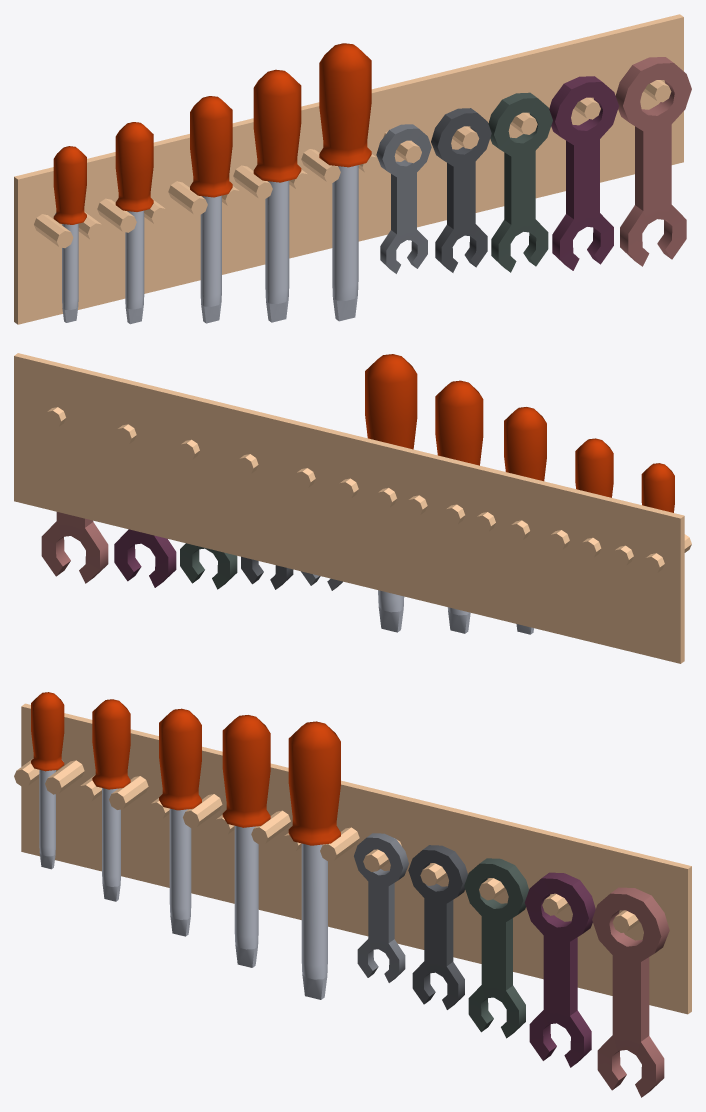
The model's file is Toolrack.fbx.
3 views of the same model, one above another, from view 1: azimuth 30°, elevation 25°; view 2: azimuth 150°, elevation 25°; view 3: azimuth 330°, elevation 25° (orthographic).
Visible parts, largest first — view 1: Toolrack; view 2: Toolrack; view 3: Toolrack.
Part boxes in pixels (<box>): Toolrack: <box>14,14,691,324</box>; Toolrack: <box>14,353,691,663</box>; Toolrack: <box>14,692,691,1097</box>.
Size of the model in its own units: 48 by 20.22 by 4.78.
